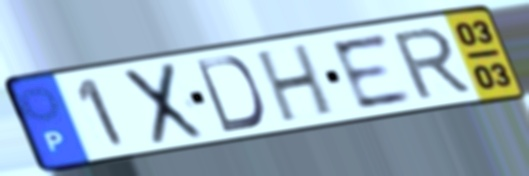1: (73, 75, 129, 149)
D: (192, 53, 268, 135)
E: (325, 30, 417, 113)
H: (254, 40, 338, 126)
R: (387, 24, 475, 103)
X: (120, 59, 208, 149)
